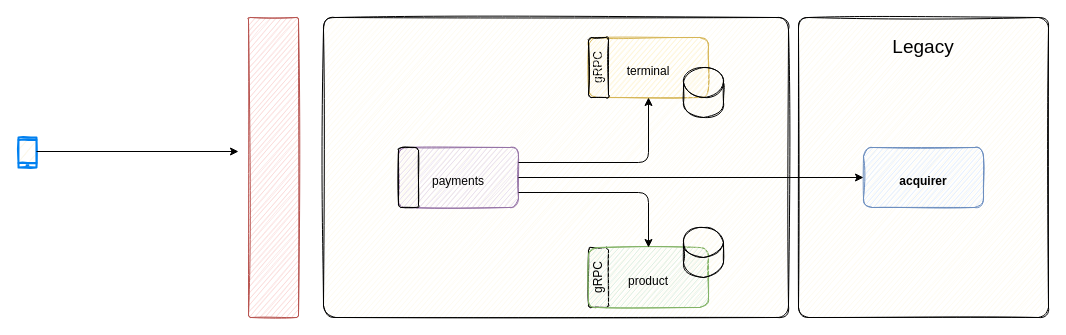
The diagram is 1066 pixels wide and 335 high, and some of its shapes have lost their labels. The centre of each missing label's shape, as x and y in pixels:
API Gateway: the point at 273,167
REST: the point at 408,177
